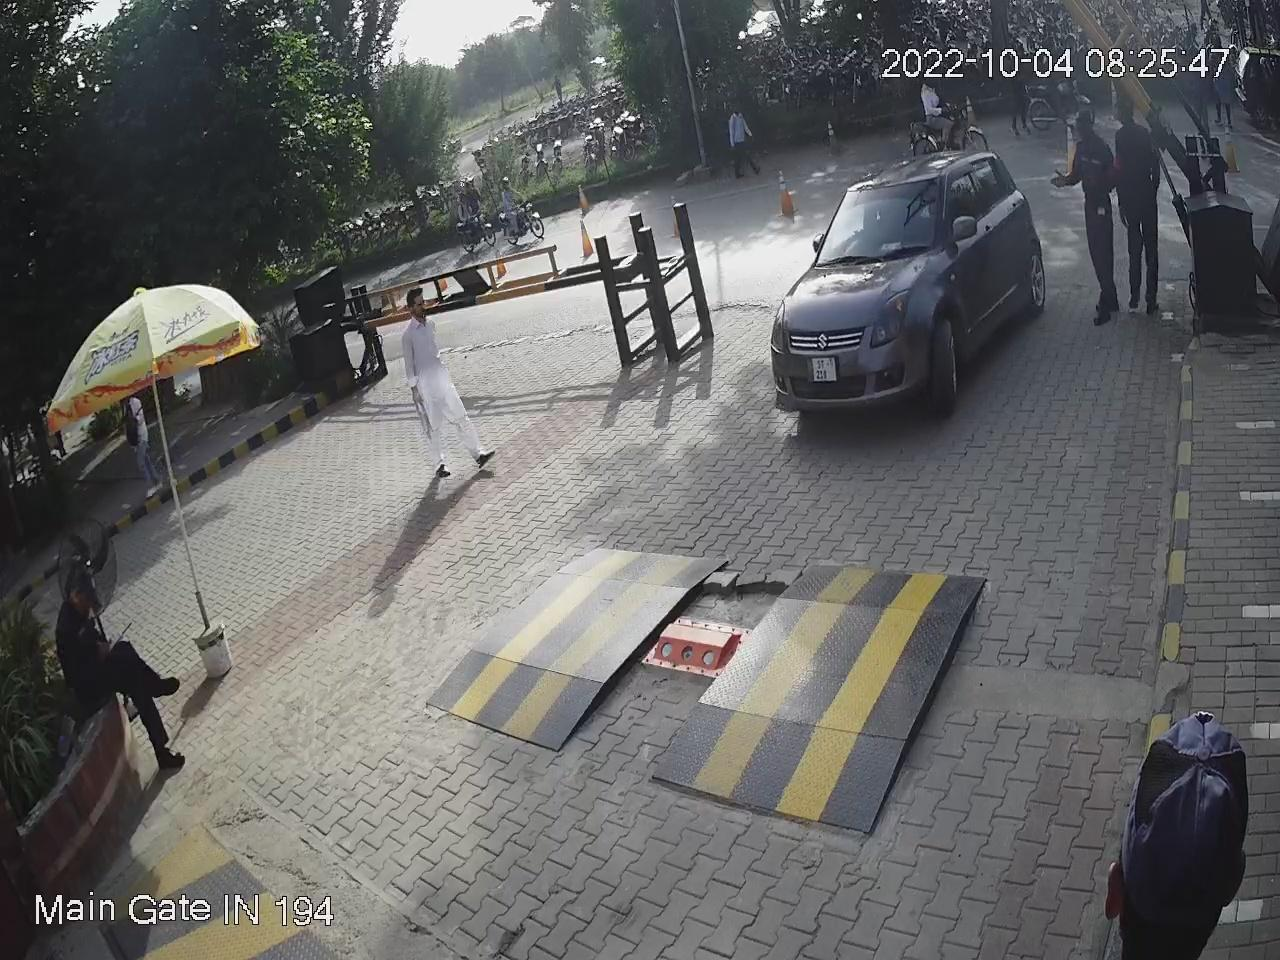windshield: (808, 172, 945, 265)
